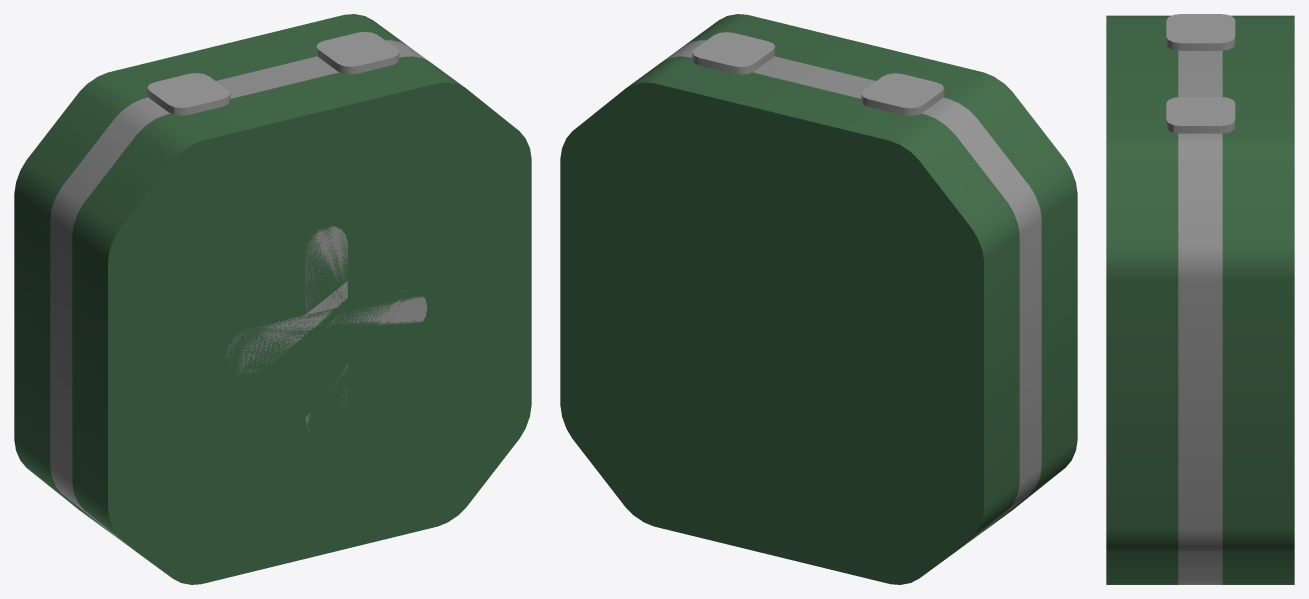
The model's file is First Aid A.fbx.
3 renders of one model, left to right at view 1: azimuth 30°, elevation 25°; view 2: azimuth 150°, elevation 25°; view 3: azimuth 270°, elevation 25°, orthographic.
Parts seen in each view (by area): view 1: First Aid; view 2: First Aid; view 3: First Aid.
Part boxes in pixels (x1,y1,x2,y2): First Aid: (14, 14, 531, 584); First Aid: (560, 14, 1077, 584); First Aid: (1106, 14, 1294, 584).
Size of the model in its own units: 0.6014 by 0.6117 by 0.23.
